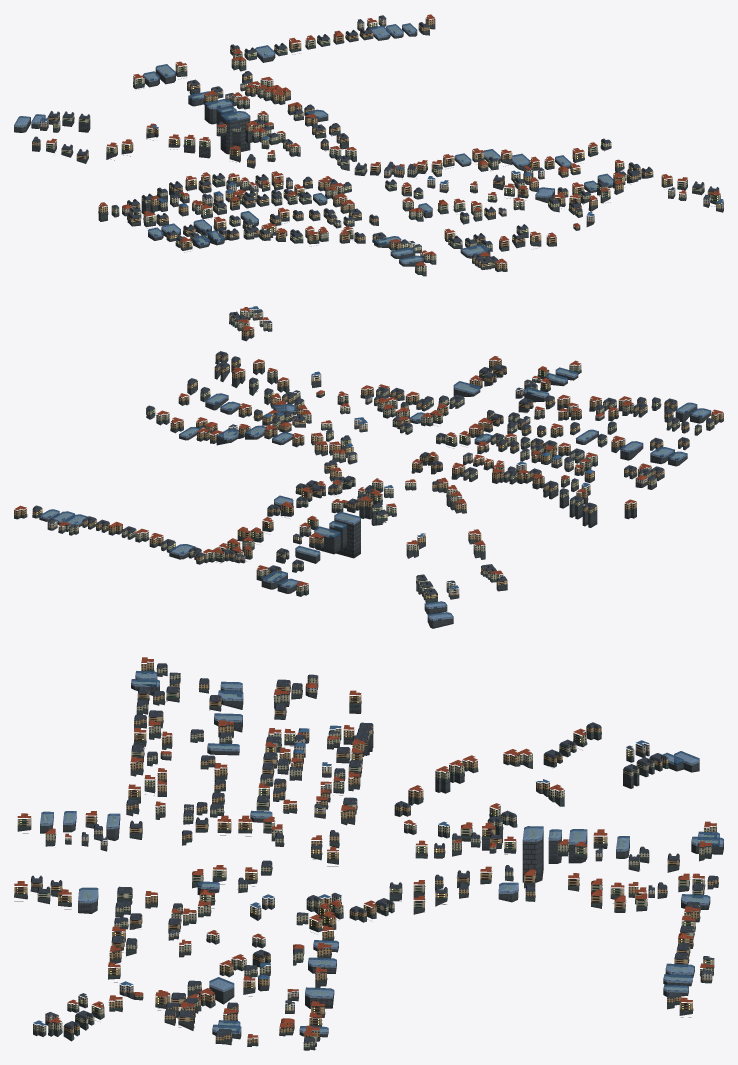
File: osm_buildings_T_E02_S02_Q4.glb
3 views of the same model, one above another, from view 1: azimuth 30°, elevation 25°; view 2: azimuth 150°, elevation 25°; view 3: azimuth 270°, elevation 25° (orthographic). The views are drawn at different scales.
Visible parts, largest first — view 1: OSM_T_E02_S02_Q4_foundation, OSM_T_E02_S02_Q4_wall_french_ochre, OSM_T_E02_S02_Q4_wall_cream_stucco, OSM_T_E02_S02_Q4_greenhouse_blend, OSM_T_E02_S02_Q4_roof_terracotta, OSM_T_E02_S02_Q4_roof_mansard_slate, OSM_T_E02_S02_Q4_roof_mansard_deck, OSM_T_E02_S02_Q4_roof_mint_metal, OSM_T_E02_S02_Q4_balcony_railing, OSM_T_E02_S02_Q4_trim_cornice, OSM_T_E02_S02_Q4_window_emissive_warm, OSM_T_E02_S02_Q4_wall_pastel_sand; view 2: OSM_T_E02_S02_Q4_foundation, OSM_T_E02_S02_Q4_wall_french_ochre, OSM_T_E02_S02_Q4_wall_cream_stucco, OSM_T_E02_S02_Q4_greenhouse_blend, OSM_T_E02_S02_Q4_roof_terracotta, OSM_T_E02_S02_Q4_roof_mansard_slate, OSM_T_E02_S02_Q4_roof_mansard_deck, OSM_T_E02_S02_Q4_roof_mint_metal, OSM_T_E02_S02_Q4_window_emissive_warm, OSM_T_E02_S02_Q4_wall_pastel_sand, OSM_T_E02_S02_Q4_balcony_railing, OSM_T_E02_S02_Q4_trim_cornice; view 3: OSM_T_E02_S02_Q4_foundation, OSM_T_E02_S02_Q4_wall_french_ochre, OSM_T_E02_S02_Q4_wall_cream_stucco, OSM_T_E02_S02_Q4_roof_terracotta, OSM_T_E02_S02_Q4_greenhouse_blend, OSM_T_E02_S02_Q4_roof_mansard_slate, OSM_T_E02_S02_Q4_roof_mansard_deck, OSM_T_E02_S02_Q4_roof_mint_metal, OSM_T_E02_S02_Q4_trim_cornice, OSM_T_E02_S02_Q4_balcony_railing, OSM_T_E02_S02_Q4_wall_pastel_sand, OSM_T_E02_S02_Q4_window_emissive_warm (+1 smaller).
Part boxes in pixels (x1,y1,x2,y2): OSM_T_E02_S02_Q4_foundation: (14, 22, 723, 276); OSM_T_E02_S02_Q4_wall_french_ochre: (32, 16, 719, 269); OSM_T_E02_S02_Q4_wall_cream_stucco: (46, 20, 723, 272); OSM_T_E02_S02_Q4_greenhouse_blend: (14, 23, 613, 264); OSM_T_E02_S02_Q4_roof_terracotta: (46, 14, 720, 265); OSM_T_E02_S02_Q4_roof_mansard_slate: (32, 15, 718, 263); OSM_T_E02_S02_Q4_roof_mansard_deck: (17, 22, 717, 262); OSM_T_E02_S02_Q4_roof_mint_metal: (32, 23, 716, 274); OSM_T_E02_S02_Q4_balcony_railing: (55, 31, 718, 266); OSM_T_E02_S02_Q4_trim_cornice: (32, 19, 720, 270); OSM_T_E02_S02_Q4_window_emissive_warm: (21, 19, 719, 263); OSM_T_E02_S02_Q4_wall_pastel_sand: (40, 17, 709, 247); OSM_T_E02_S02_Q4_foundation: (14, 315, 723, 628); OSM_T_E02_S02_Q4_wall_french_ochre: (14, 315, 723, 599); OSM_T_E02_S02_Q4_wall_cream_stucco: (58, 309, 714, 592); OSM_T_E02_S02_Q4_greenhouse_blend: (39, 367, 711, 620); OSM_T_E02_S02_Q4_roof_terracotta: (14, 307, 723, 586); OSM_T_E02_S02_Q4_roof_mansard_slate: (33, 309, 714, 595); OSM_T_E02_S02_Q4_roof_mansard_deck: (34, 311, 712, 620); OSM_T_E02_S02_Q4_roof_mint_metal: (14, 317, 722, 600); OSM_T_E02_S02_Q4_window_emissive_warm: (37, 313, 713, 598); OSM_T_E02_S02_Q4_wall_pastel_sand: (47, 310, 647, 595); OSM_T_E02_S02_Q4_balcony_railing: (15, 311, 721, 597); OSM_T_E02_S02_Q4_trim_cornice: (19, 309, 720, 597); OSM_T_E02_S02_Q4_foundation: (14, 669, 723, 1050); OSM_T_E02_S02_Q4_wall_french_ochre: (14, 662, 718, 1043); OSM_T_E02_S02_Q4_wall_cream_stucco: (17, 666, 716, 1047); OSM_T_E02_S02_Q4_roof_terracotta: (14, 657, 716, 1038); OSM_T_E02_S02_Q4_greenhouse_blend: (40, 671, 723, 1034); OSM_T_E02_S02_Q4_roof_mansard_slate: (31, 664, 718, 1042); OSM_T_E02_S02_Q4_roof_mansard_deck: (32, 663, 722, 1040); OSM_T_E02_S02_Q4_roof_mint_metal: (14, 670, 716, 1047); OSM_T_E02_S02_Q4_trim_cornice: (14, 662, 715, 1049); OSM_T_E02_S02_Q4_balcony_railing: (16, 665, 702, 1046); OSM_T_E02_S02_Q4_wall_pastel_sand: (45, 685, 712, 1022); OSM_T_E02_S02_Q4_window_emissive_warm: (17, 674, 717, 1030).
Bounding box in the file's own units: 955 × 151 × 921.
Materials: 16 (16 with a texture image).
